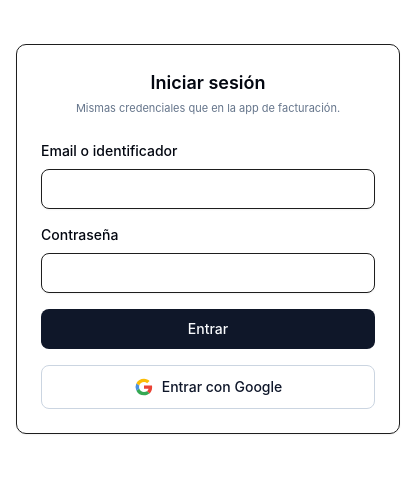
Test: LoginPage OAuth Google › shows expired/reused message on 409
Click the button "Entrar con Google" at (208, 387), box [41,365,375,409]
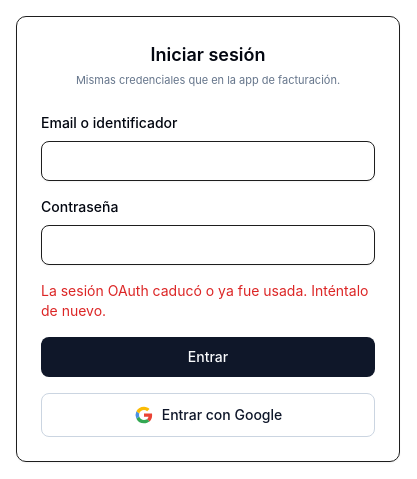
expect the text "La sesión OAuth caducó o ya fue usada. Inténtalo de nuevo." is shown: met, box [41,281,375,321]
